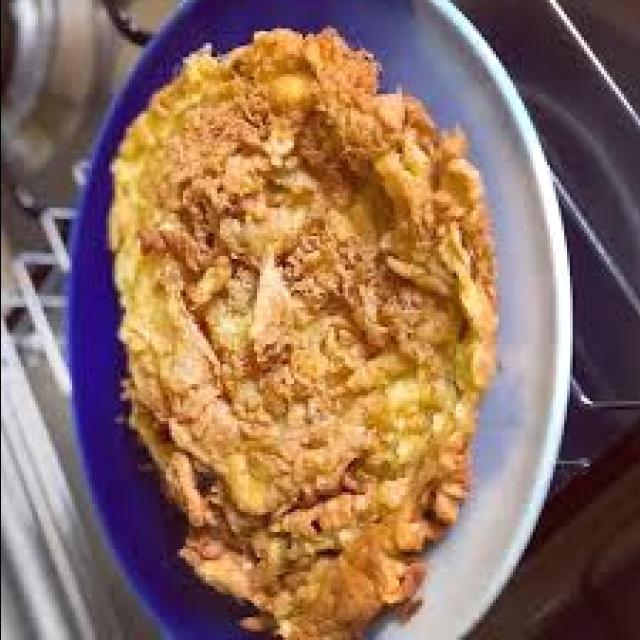telur dadar: (108, 28, 501, 631)
